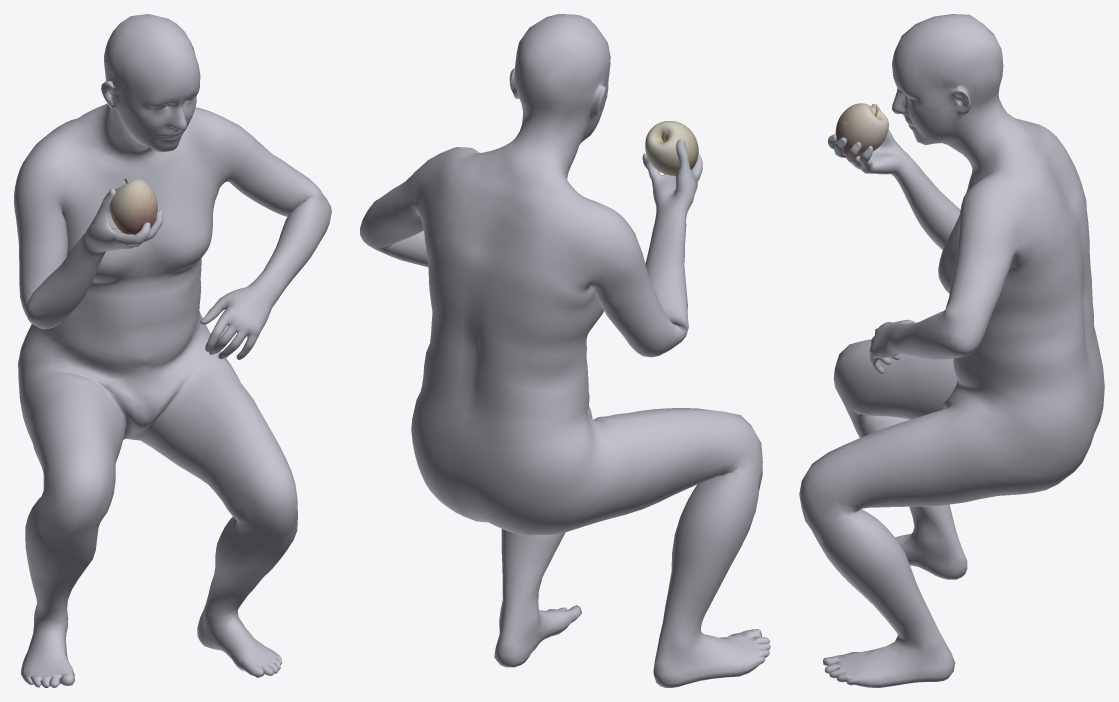
The model's file is apple.glb.
The picture shows the model from 3 angles, left to right: view 1: azimuth 30°, elevation 25°; view 2: azimuth 150°, elevation 25°; view 3: azimuth 270°, elevation 25°; orthographic projection. The views are drawn at different scales.
Parts seen in each view (by area): view 1: human, world; view 2: human, world; view 3: human, world.
Part boxes in pixels (x1,y1,x2,y2): human: (14,14,331,687); world: (109,178,157,234); human: (360,14,770,687); world: (645,121,698,175); human: (799,14,1104,687); world: (835,103,888,156).
Bounding box in the file's own units: 0.7093 × 1.26 × 0.5479.
